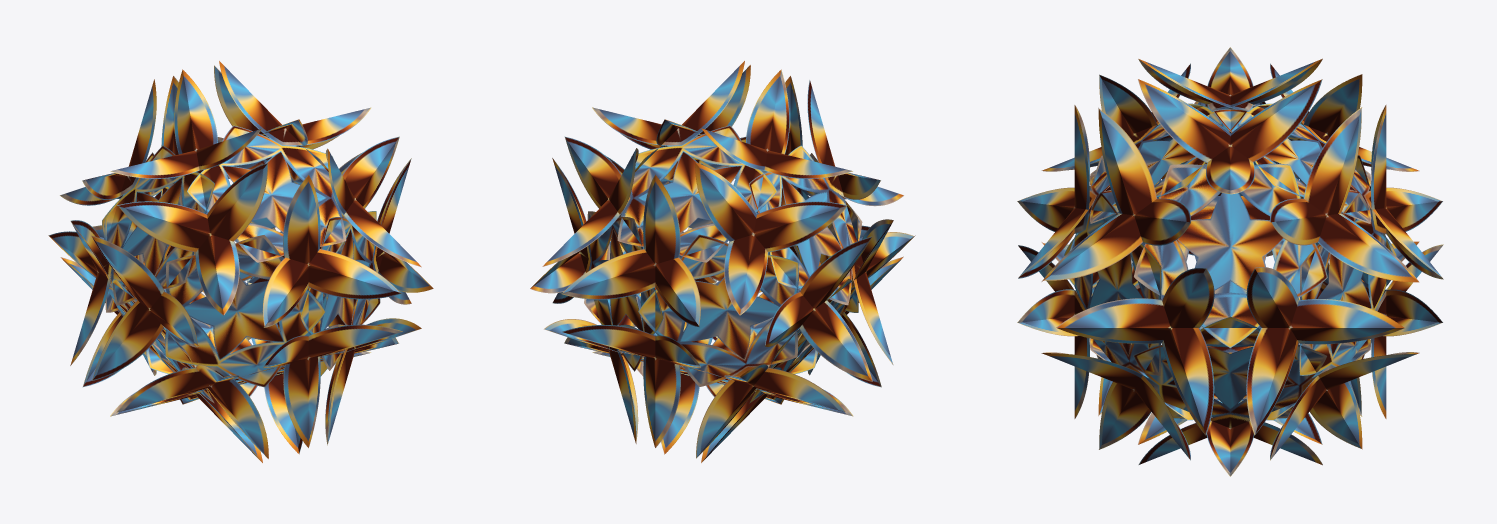
Rendered from SmallStellatedDodecahedron1.obj.
3 views of the same model, side by side, from view 1: azimuth 30°, elevation 25°; view 2: azimuth 150°, elevation 25°; view 3: azimuth 270°, elevation 25° (orthographic). The views are drawn at different scales.
Bounding box in the file's own units: 1 × 1 × 1.
Materials: 1 (1 with a texture image).
